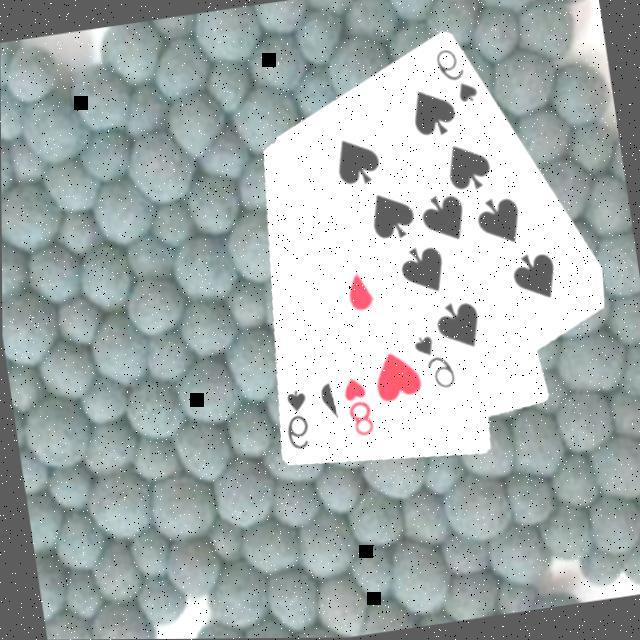6S: (274, 386, 313, 456)
8H: (335, 373, 376, 443)
9S: (428, 44, 480, 112), (407, 330, 457, 397)
